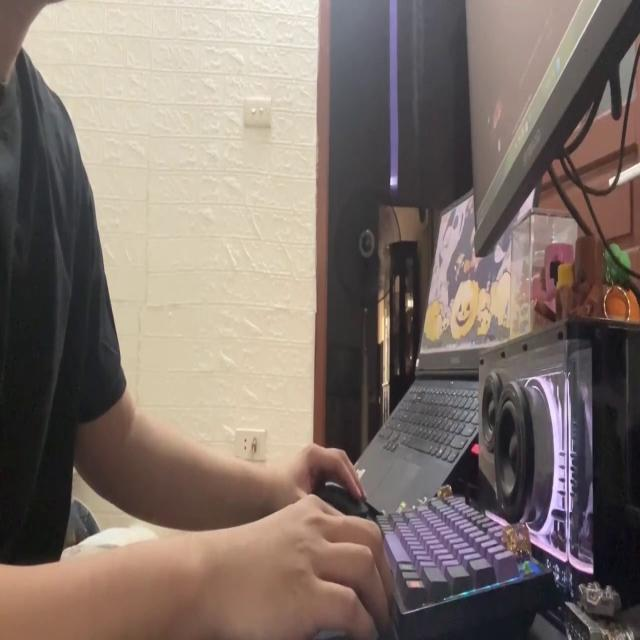laptop: (348, 172, 543, 521), (460, 0, 640, 255)
student: (0, 0, 392, 640)
